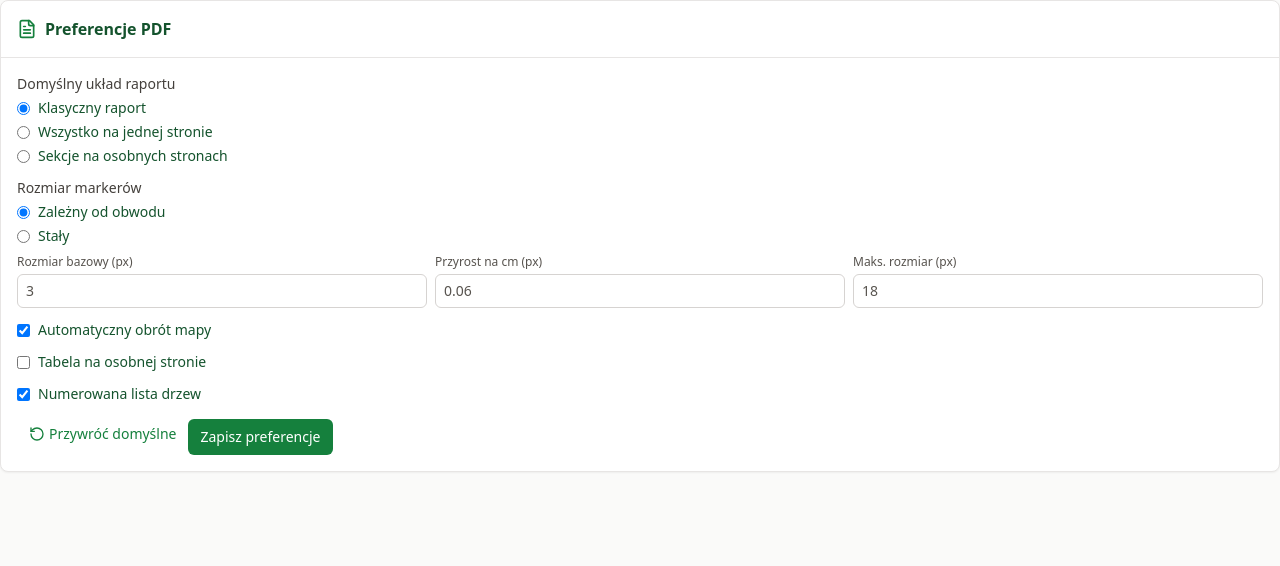
PdfPrefsEditor › should show save failure as error
Click the button with test id "pdf-prefs-save". click: {"x": 260, "y": 437}
box: 188,419 -> 332,455
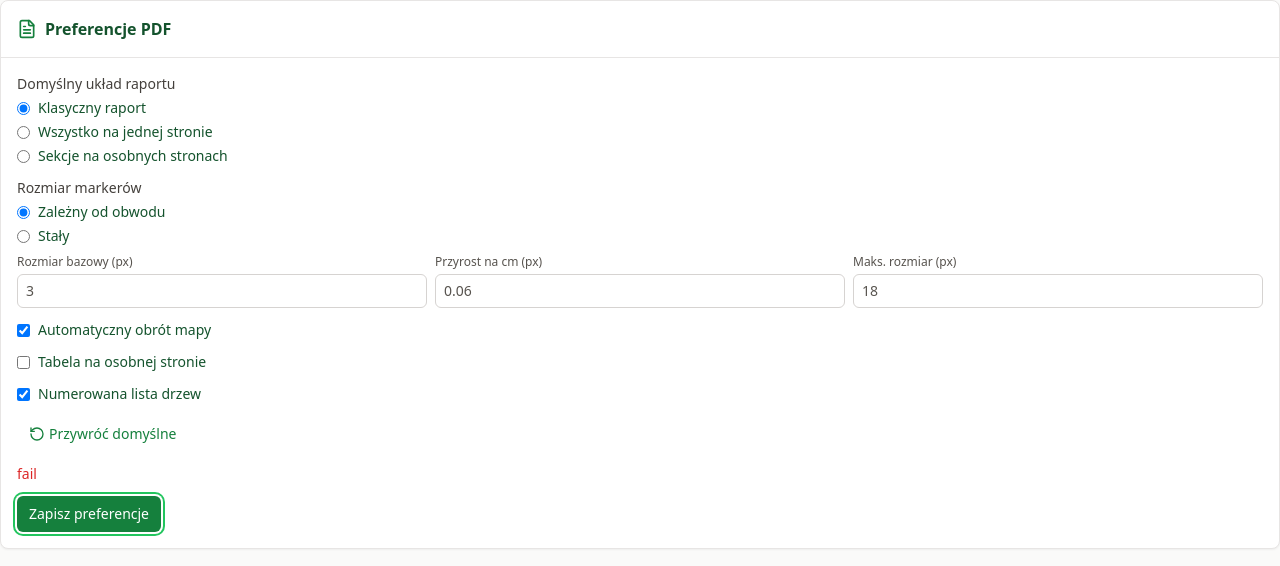
Expected: the message with test id "pdf-prefs-error" reads "fail", 17,464 -> 37,483
